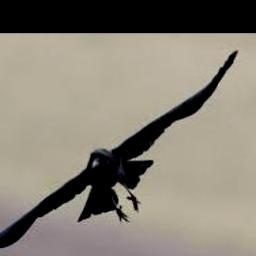Crow: (0, 48, 240, 254)
